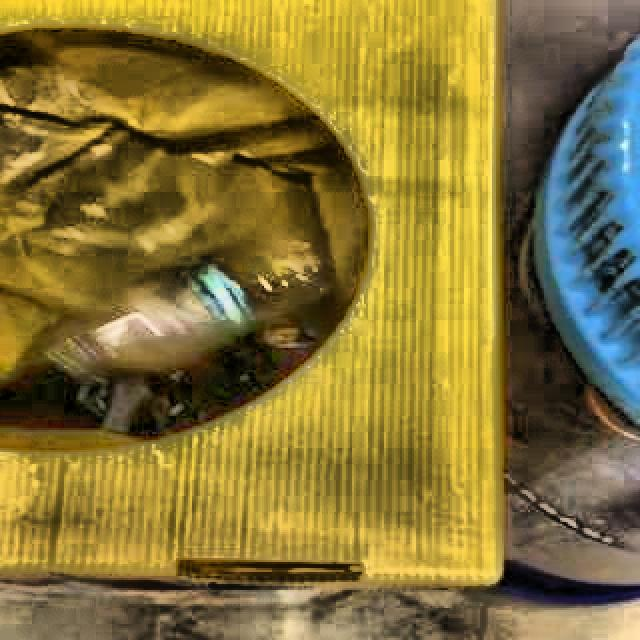plastic: (43, 244, 333, 375)
